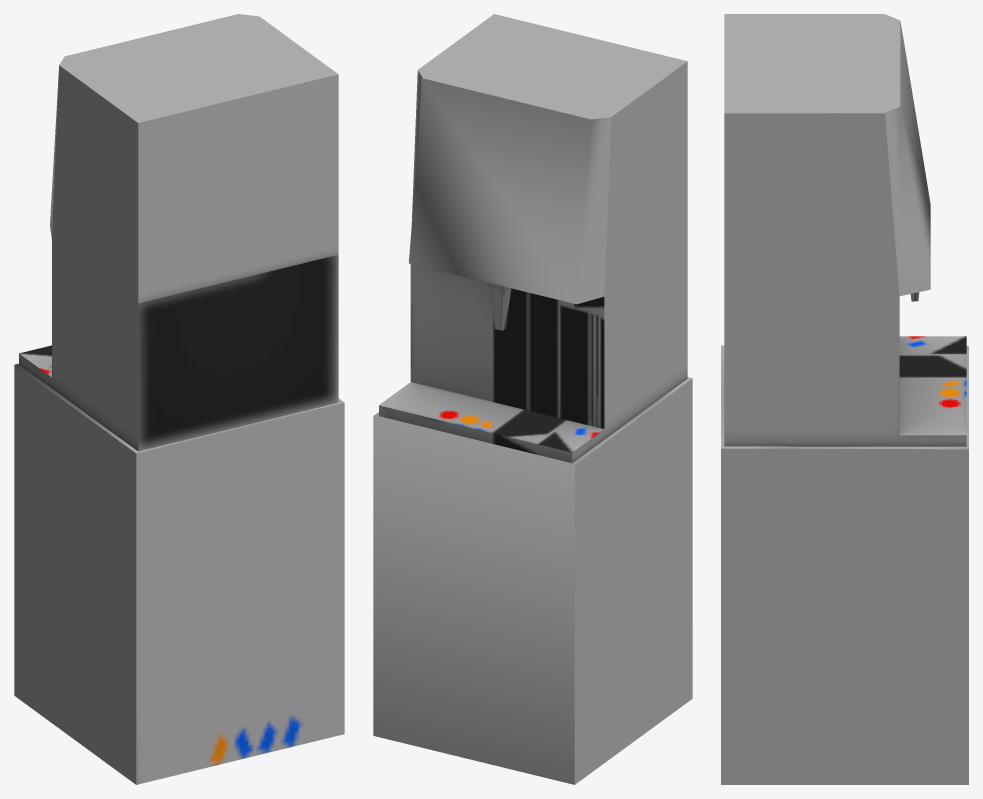
File: Dispenser.fbx
3 views of the same model, side by side, from view 1: azimuth 30°, elevation 25°; view 2: azimuth 150°, elevation 25°; view 3: azimuth 270°, elevation 25° (orthographic). The views are drawn at different scales.
Parts seen in each view (by area): view 1: Dispenser; view 2: Dispenser; view 3: Dispenser.
Part boxes in pixels (x1,y1,x2,y2): Dispenser: (14,14,344,784); Dispenser: (373,14,692,784); Dispenser: (721,14,968,784).
Bounding box in the file's own units: 19.48 × 58.89 × 19.75.
Materials: 1 (1 with a texture image).
